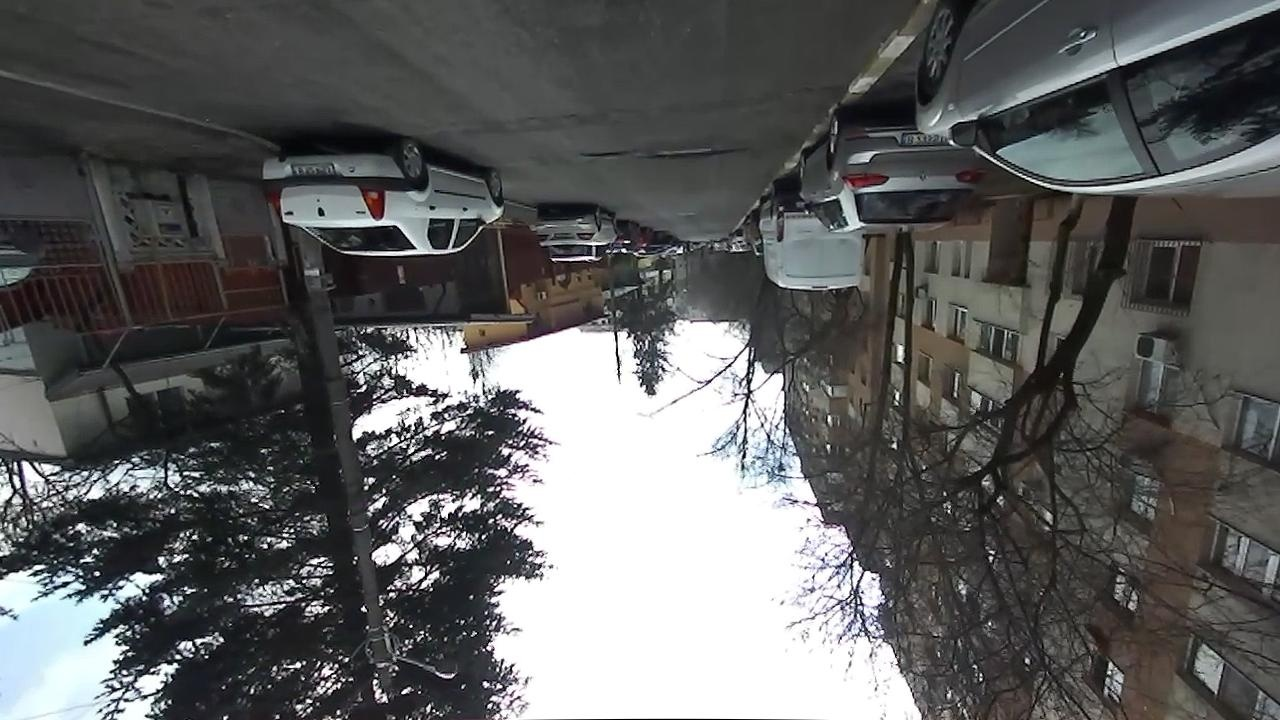pothole: (653, 145, 745, 160), (582, 148, 630, 158)
